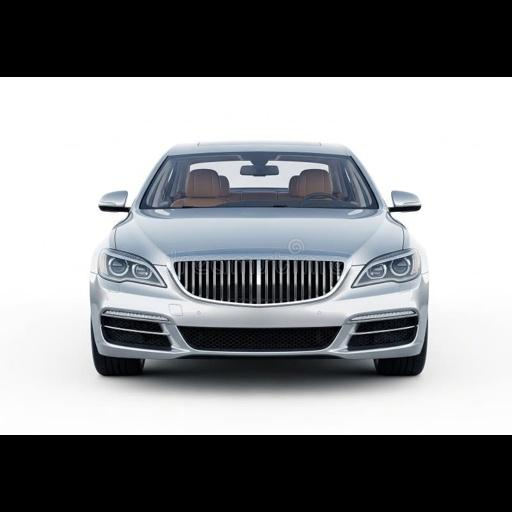sedan: (90, 143, 428, 374)
